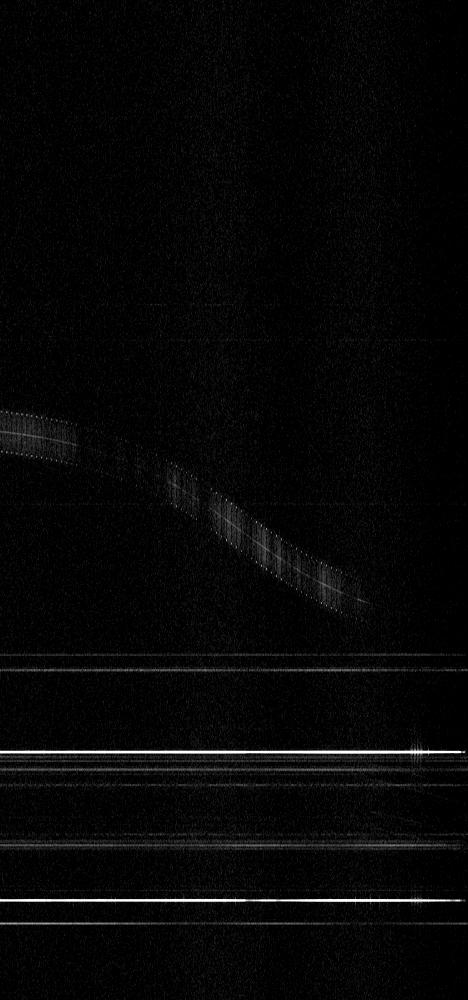signal: (0, 0, 467, 999)
